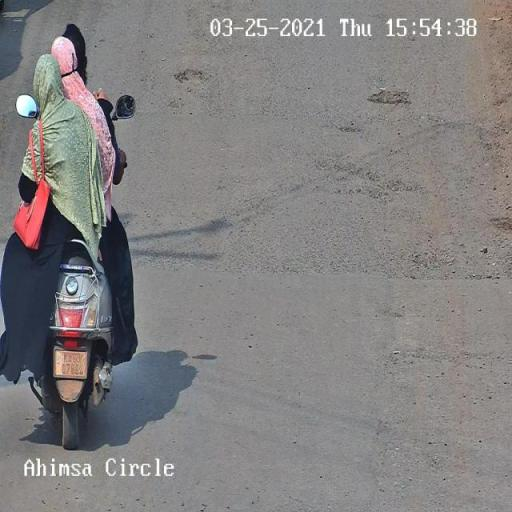tripple riding: (0, 18, 139, 256)
